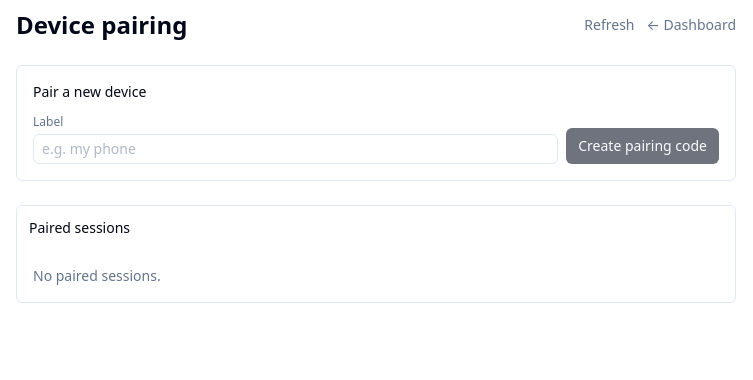
it: Pairing route › surfaces an error banner on a failed create, and renders no QR or secret
Type "my phone" into the field labelled "Label".
click(296, 149); type("my phone")  # box [33,134,558,164]
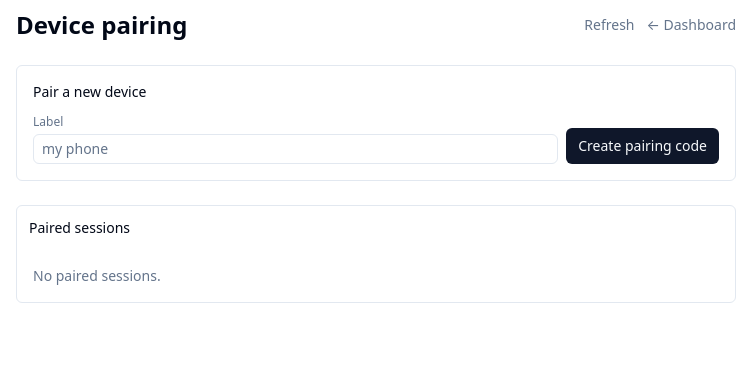
Click the button "Create pairing code".
click(643, 146)  # box [566,128,719,164]
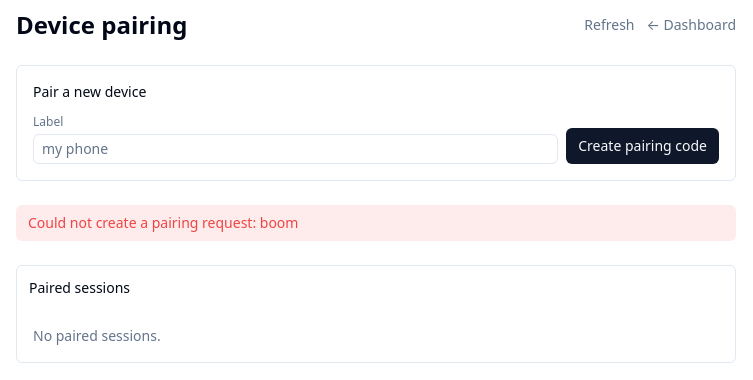
expect the message shows "Could not create": met, box [28,213,298,232]
